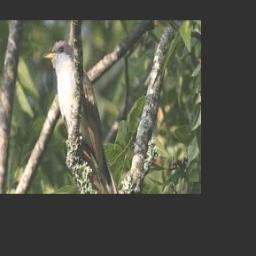Cuckoo: (43, 41, 119, 194)
